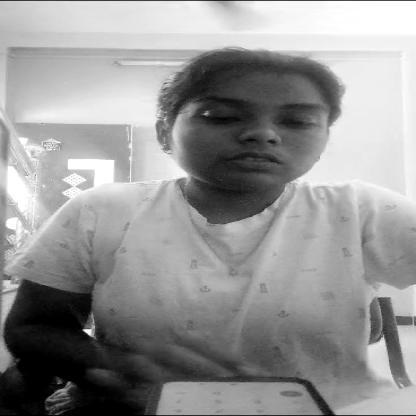Normal: (149, 52, 339, 186)
